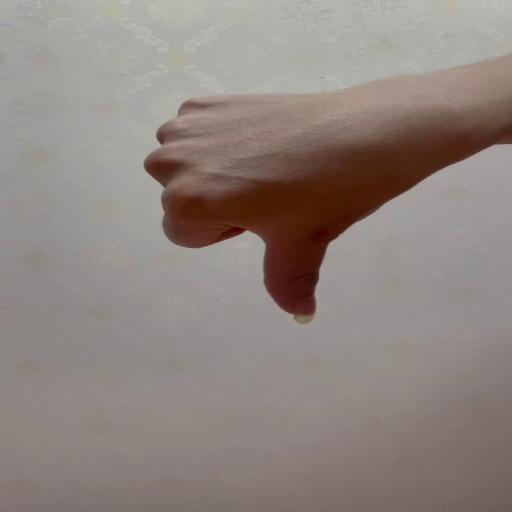thumbs_down: (144, 91, 398, 326)
